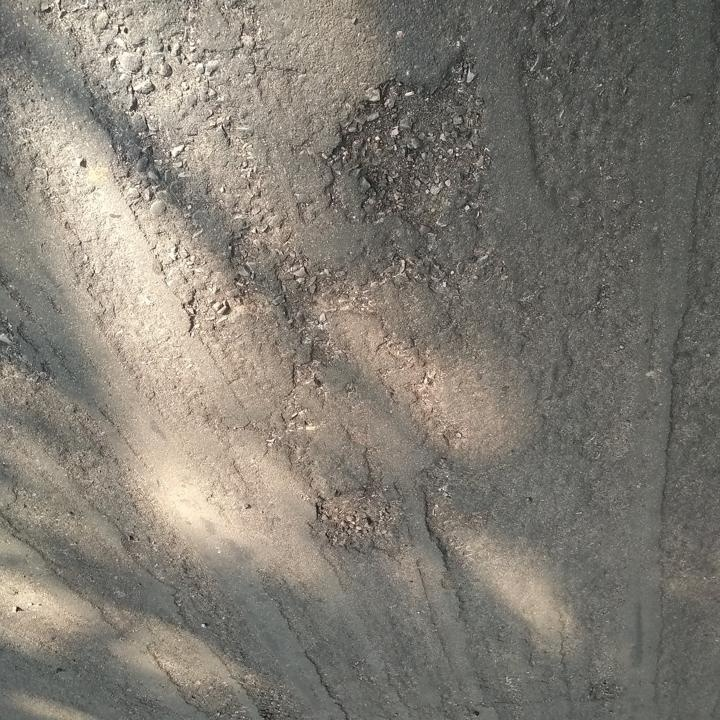pothole: (328, 56, 499, 226), (310, 483, 404, 560), (241, 678, 308, 719), (585, 678, 629, 706)
